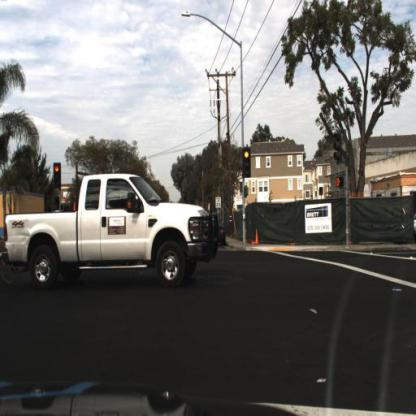car: (3, 172, 221, 294)
trafficLight: (241, 145, 253, 178)
trafficLight-Red: (52, 164, 63, 194)
